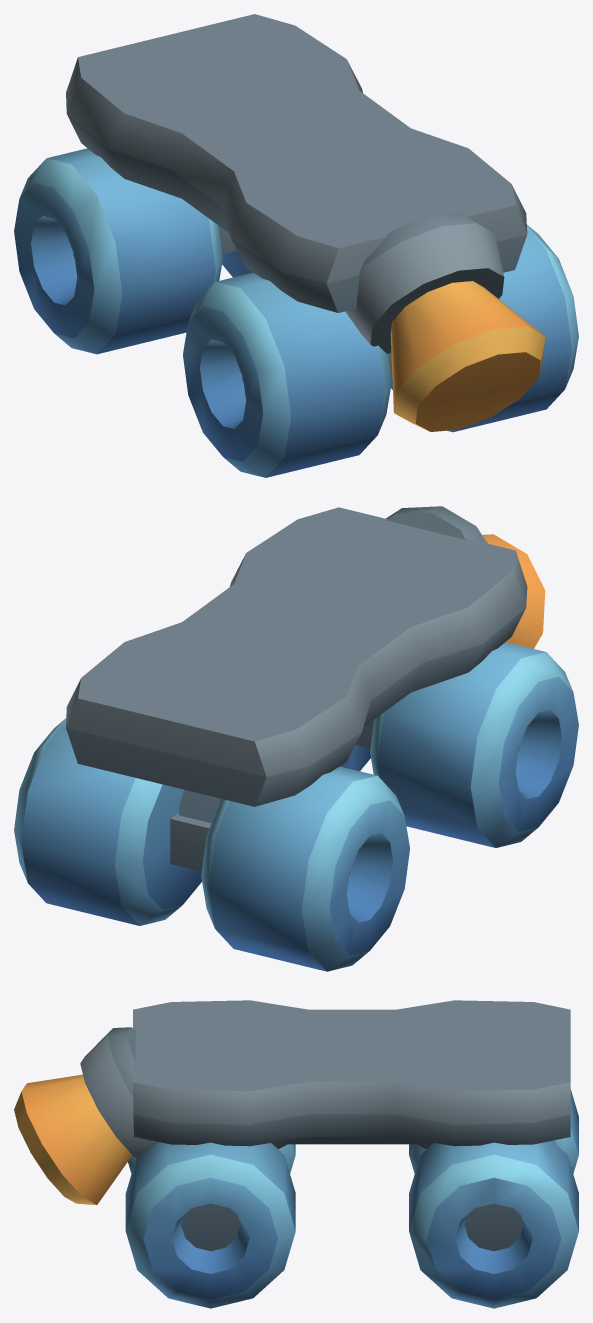
The model's file is rollerskate_A.fbx.
3 views of the same model, one above another, from view 1: azimuth 30°, elevation 25°; view 2: azimuth 150°, elevation 25°; view 3: azimuth 270°, elevation 25° (orthographic). The views are drawn at different scales.
Visible parts, largest first — view 1: rollerskate_A; view 2: rollerskate_A; view 3: rollerskate_A.
Part boxes in pixels (bbox=[...]): rollerskate_A: bbox=[14, 14, 578, 477]; rollerskate_A: bbox=[14, 506, 578, 971]; rollerskate_A: bbox=[14, 1000, 578, 1308].
Size of the model in its own units: 27 by 21.13 by 49.87.
